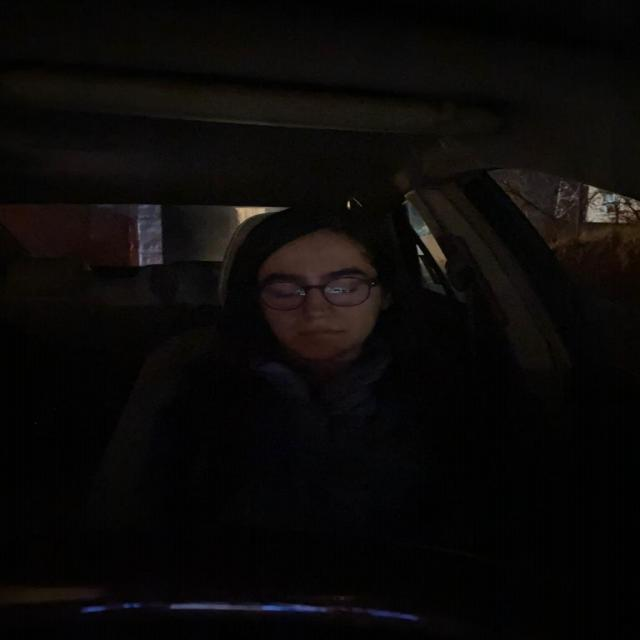drowsy: (227, 210, 402, 374)
